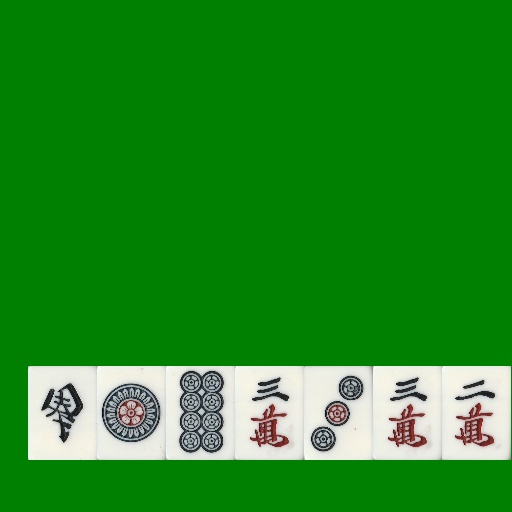1p: (97, 366, 166, 460)
2m: (442, 366, 511, 460)
3m: (235, 366, 304, 460), (373, 366, 442, 460)
3p: (304, 366, 373, 460)
8p: (166, 366, 235, 460)
south: (28, 366, 97, 460)
